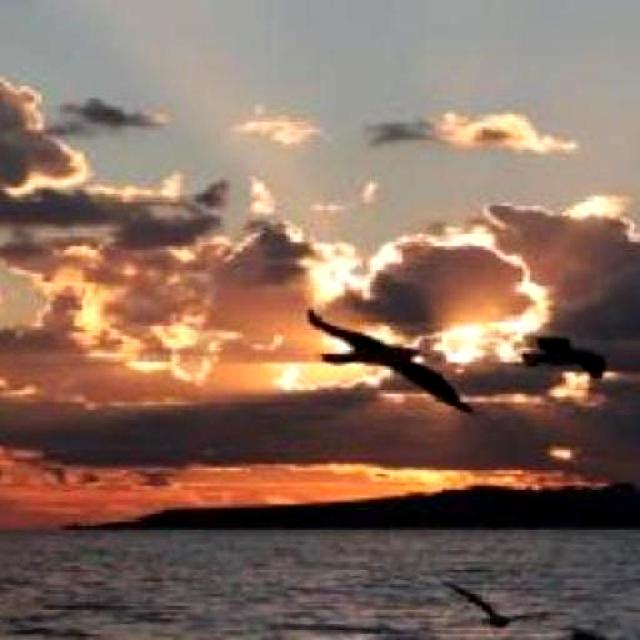airplane: (306, 306, 482, 418), (438, 579, 575, 629), (520, 335, 610, 381), (558, 629, 614, 640)
